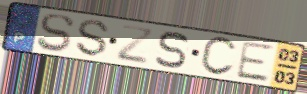C: (198, 36, 239, 78)
E: (233, 40, 275, 84)
S: (35, 14, 76, 54), (153, 30, 191, 71), (75, 18, 111, 59)
Z: (114, 23, 156, 66)
